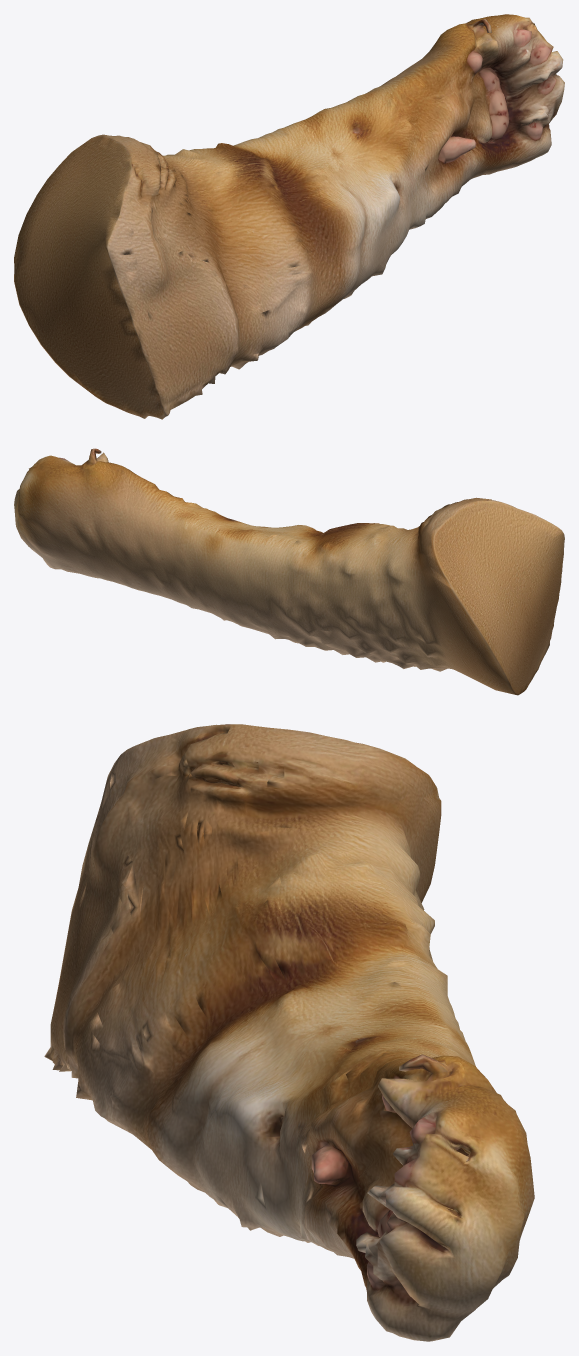
File: paw.glb
3 views of the same model, one above another, from view 1: azimuth 30°, elevation 25°; view 2: azimuth 150°, elevation 25°; view 3: azimuth 270°, elevation 25° (orthographic). The views are drawn at different scales.
Visible parts, largest first — view 1: tripo_node_0a8638ac-72fc-4e8d-bce7-6cdf9; view 2: tripo_node_0a8638ac-72fc-4e8d-bce7-6cdf9; view 3: tripo_node_0a8638ac-72fc-4e8d-bce7-6cdf9.
Part boxes in pixels (x1,y1,x2,y2): tripo_node_0a8638ac-72fc-4e8d-bce7-6cdf9: [14, 14, 564, 419]; tripo_node_0a8638ac-72fc-4e8d-bce7-6cdf9: [14, 448, 564, 695]; tripo_node_0a8638ac-72fc-4e8d-bce7-6cdf9: [44, 724, 534, 1341].
Bounding box in the file's own units: 0.998 × 0.3887 × 0.4512.
Materials: 1 (1 with a texture image).
